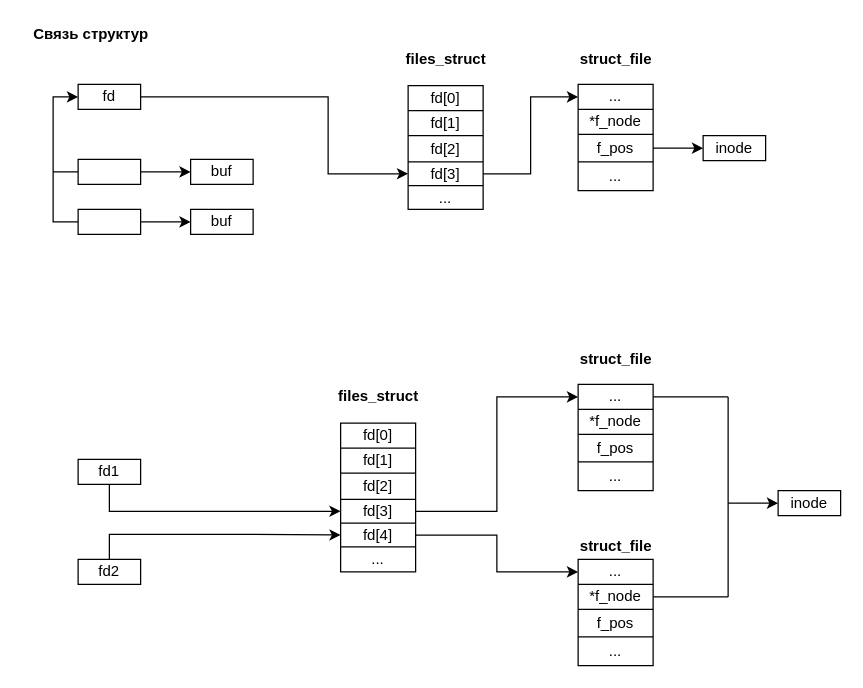
Image size: 863x688. Some labels were removed from this diagram. The centre of each missing label's shape, as x and y in pixels:
fs1: point (109, 171)
fs2: point (109, 221)
